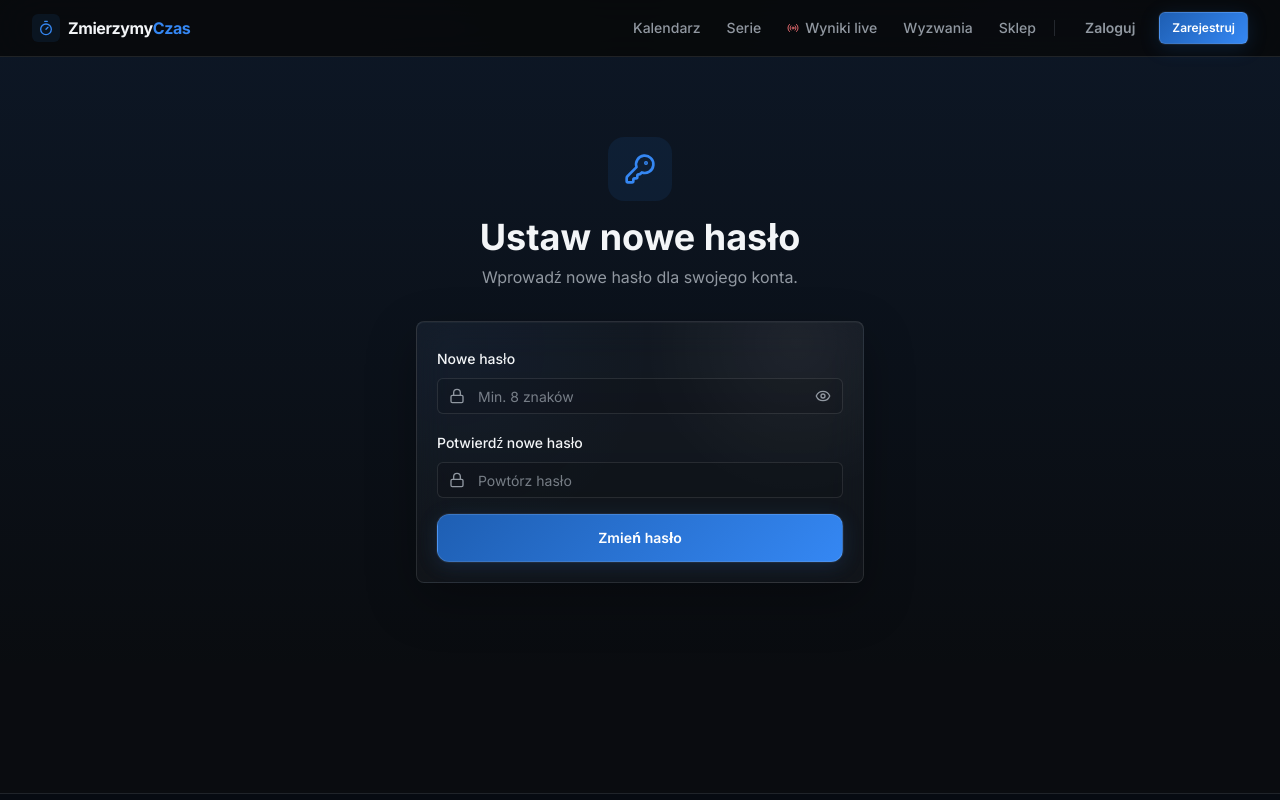
Test: ResetPasswordPage › sends the link token and the new password to the API and shows the success view
Type "NoweHaslo123" into the password field with placeholder "Min. 8 znaków" at point(640, 396), box x1=437 y1=378 x2=843 y2=414
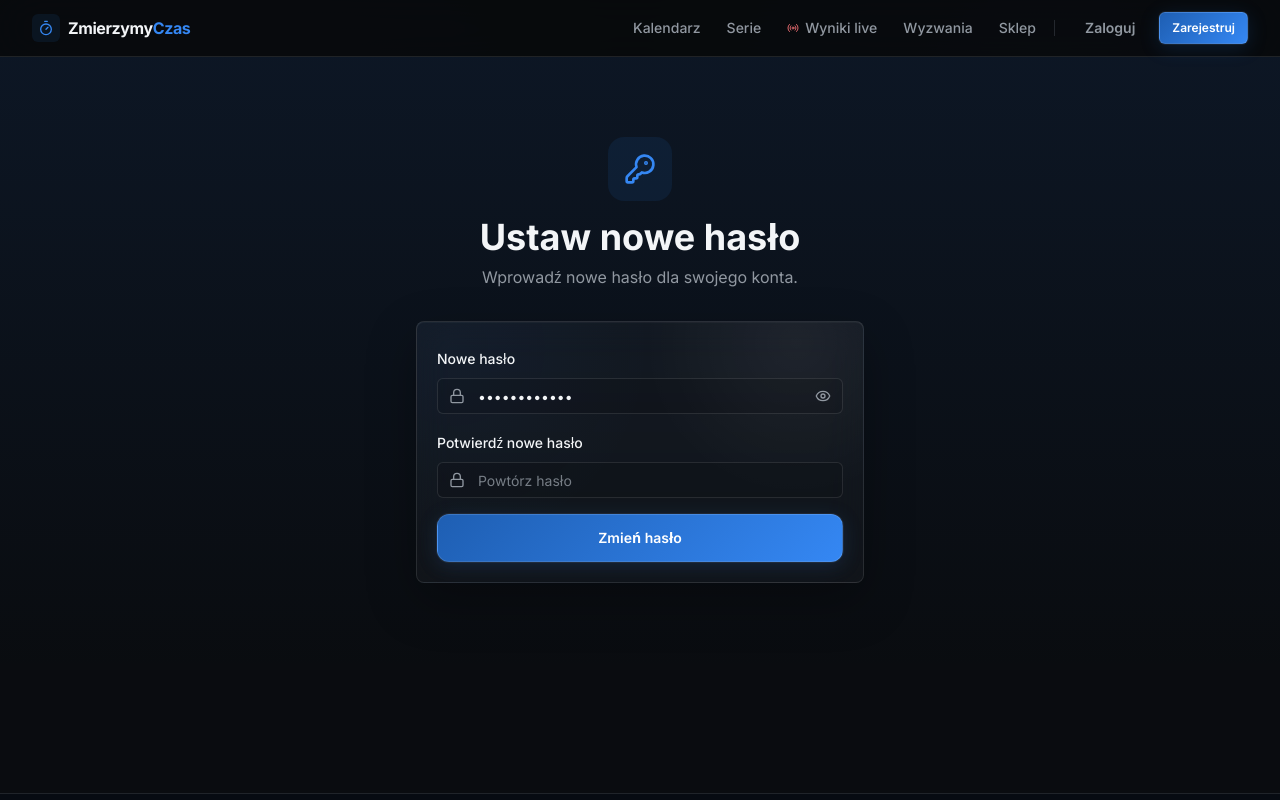
Type "NoweHaslo123" into the password field with placeholder "Powtórz hasło" at point(640, 480), box x1=437 y1=462 x2=843 y2=498
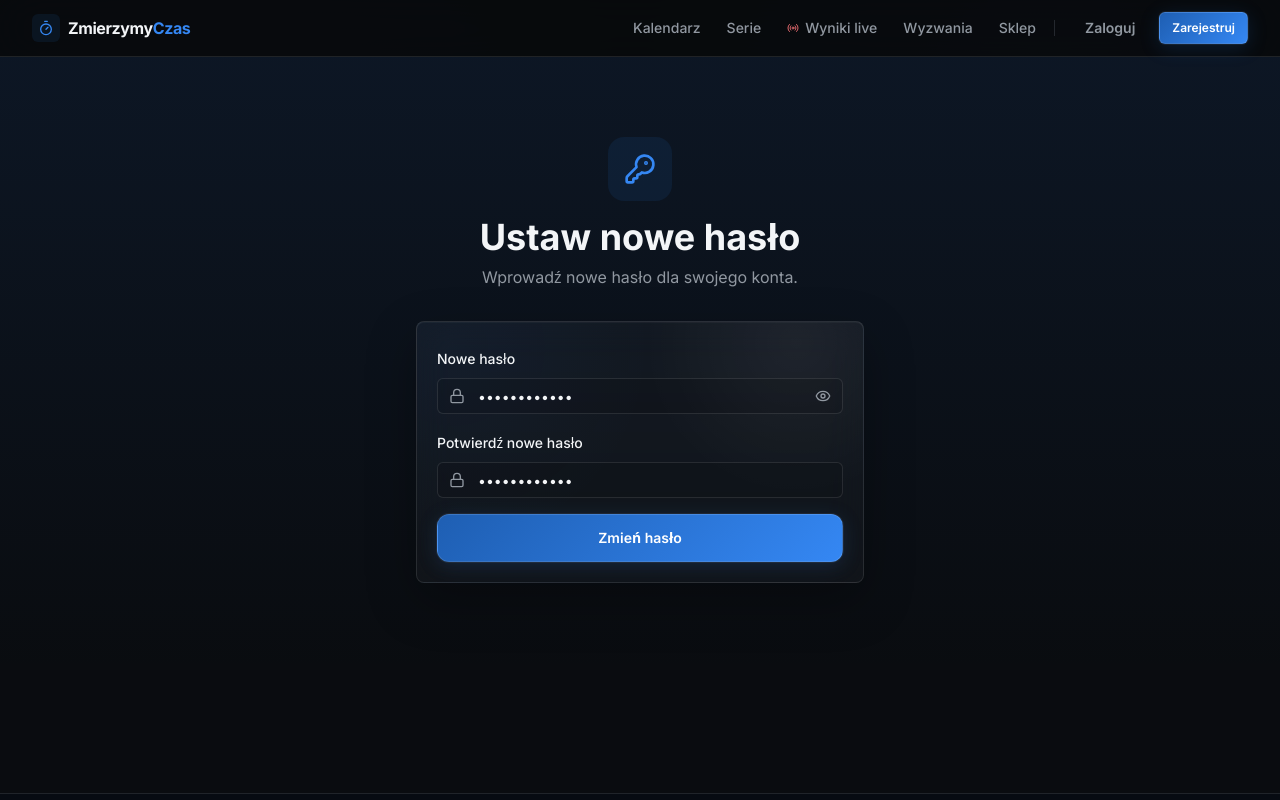
Click the button "Zmień hasło" at point(640, 538), box x1=437 y1=514 x2=843 y2=562
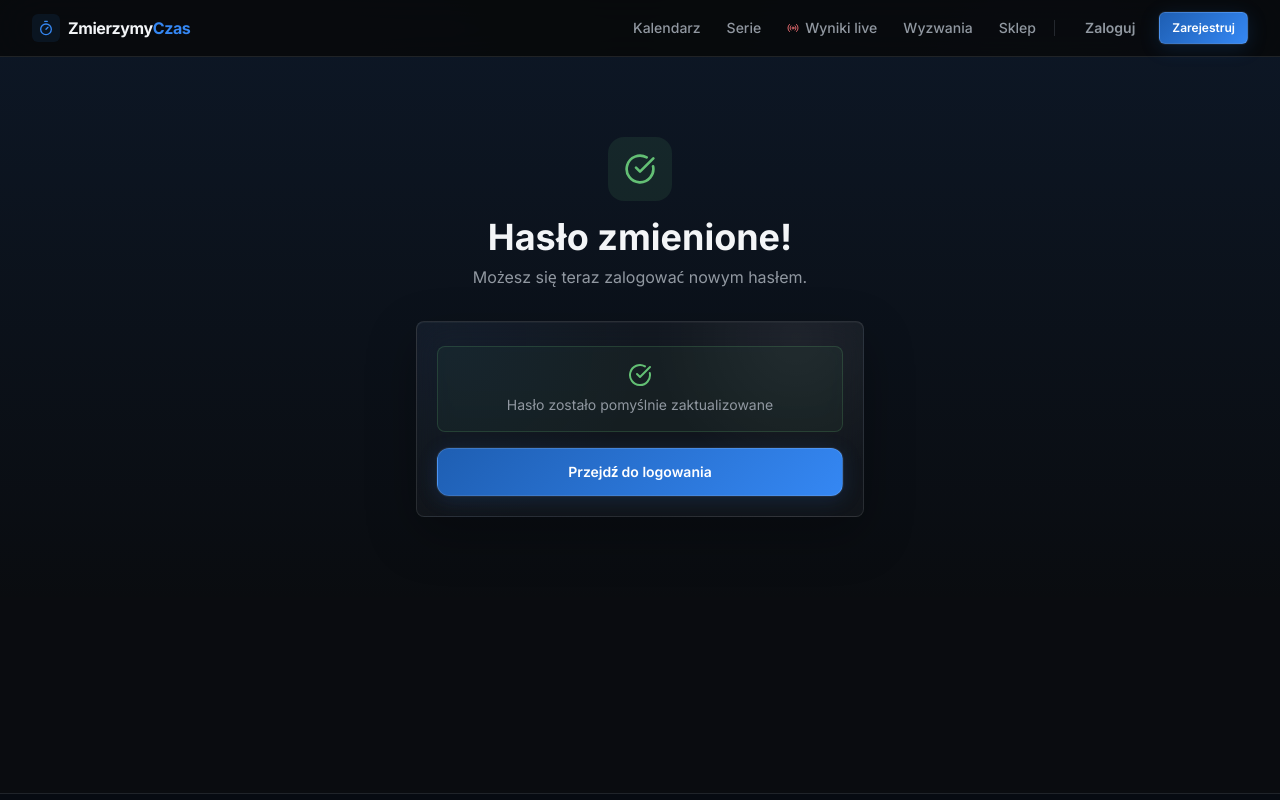
expect the heading "Hasło zmienione!" is shown: met, box x1=488 y1=215 x2=792 y2=259
expect the link "Przejdź do logowania" is shown: met, box x1=437 y1=448 x2=843 y2=496
